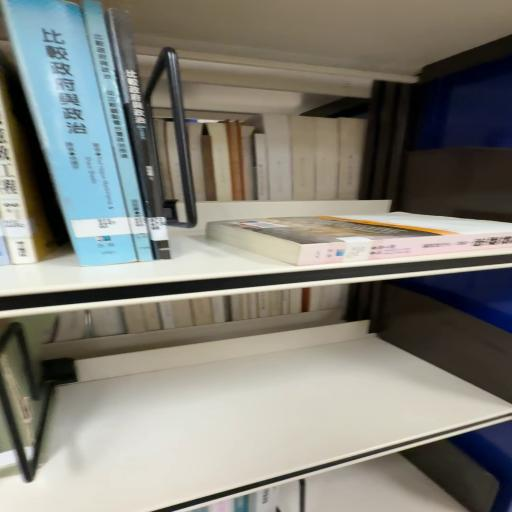flat: (207, 213, 512, 267)
